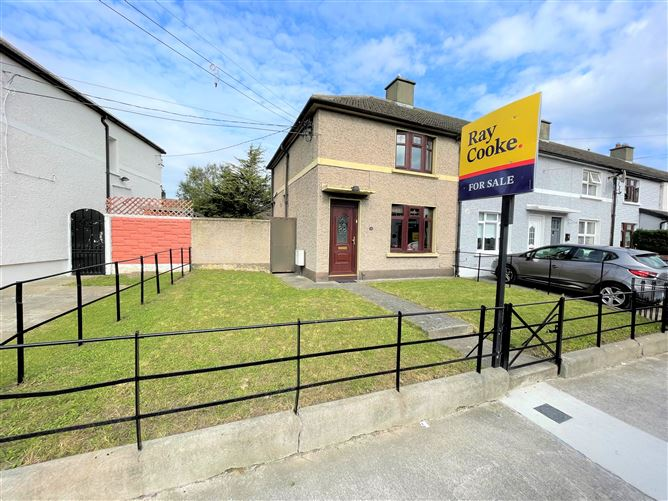property sign: (458, 85, 542, 211)
